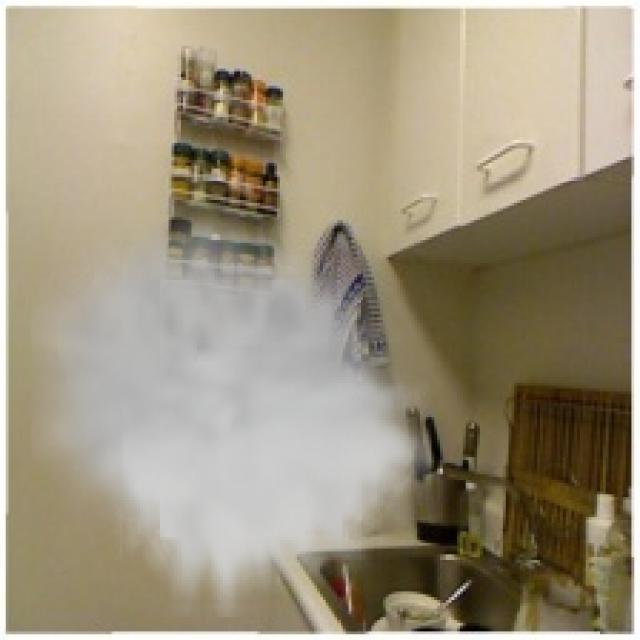Smoke: (31, 202, 432, 618)
